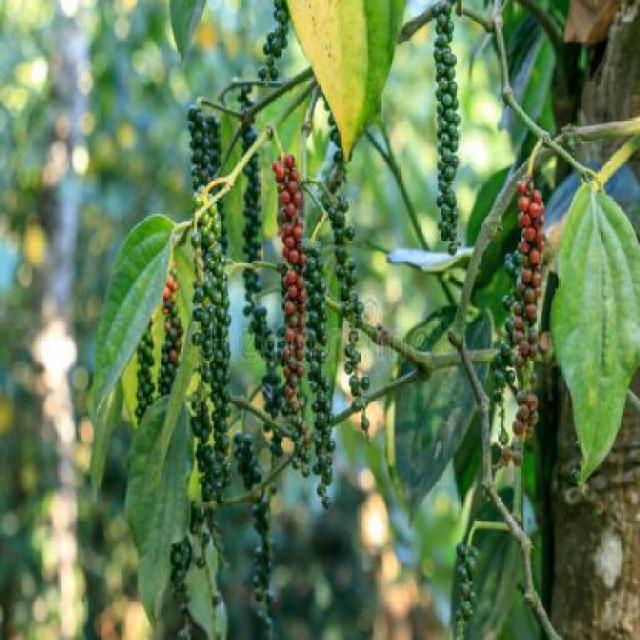RIPE: (266, 151, 312, 428), (514, 180, 549, 434), (163, 261, 180, 316)
UNRIPE: (191, 99, 228, 502), (428, 12, 467, 261), (301, 238, 333, 496), (239, 86, 268, 348), (329, 195, 356, 424), (235, 434, 269, 614), (454, 542, 477, 639), (135, 315, 152, 416)
